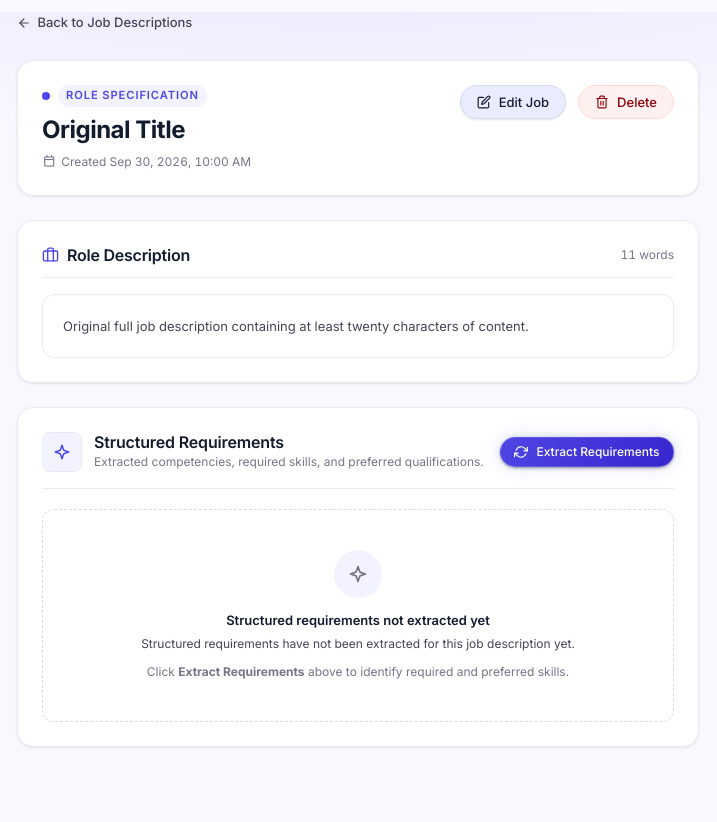
Test: Stage 4: Job Description Management Suite › 11. Edit form pre-population: pre-populates form with current job values
The width and height of the screenshot is (717, 822).
Step 1. Click the button with test id "toggle-edit-job-btn" → [513, 102], box [460,85,566,119]
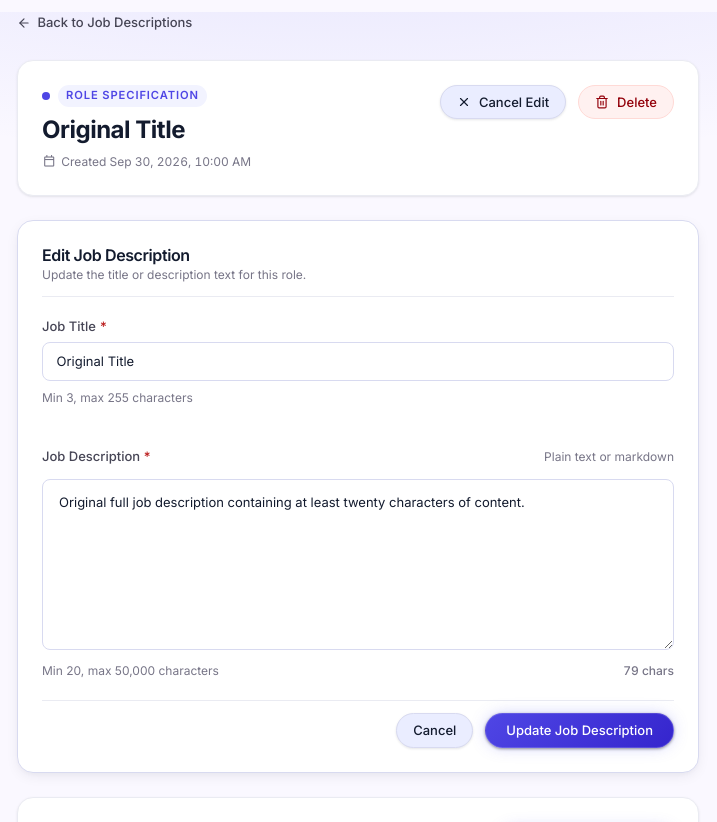
Check: the element with test id "edit-job-card" is shown
Check: the field with test id "job-title-input" holds "Original Title", box [42,342,674,381]
